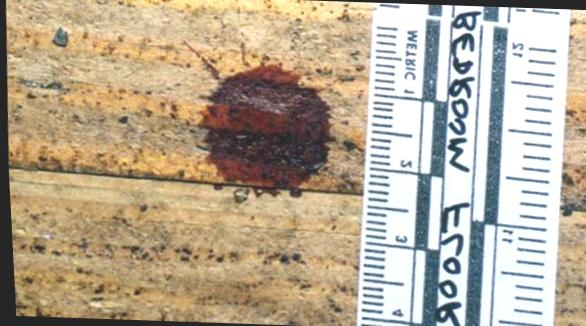Fire: (190, 42, 334, 203)
